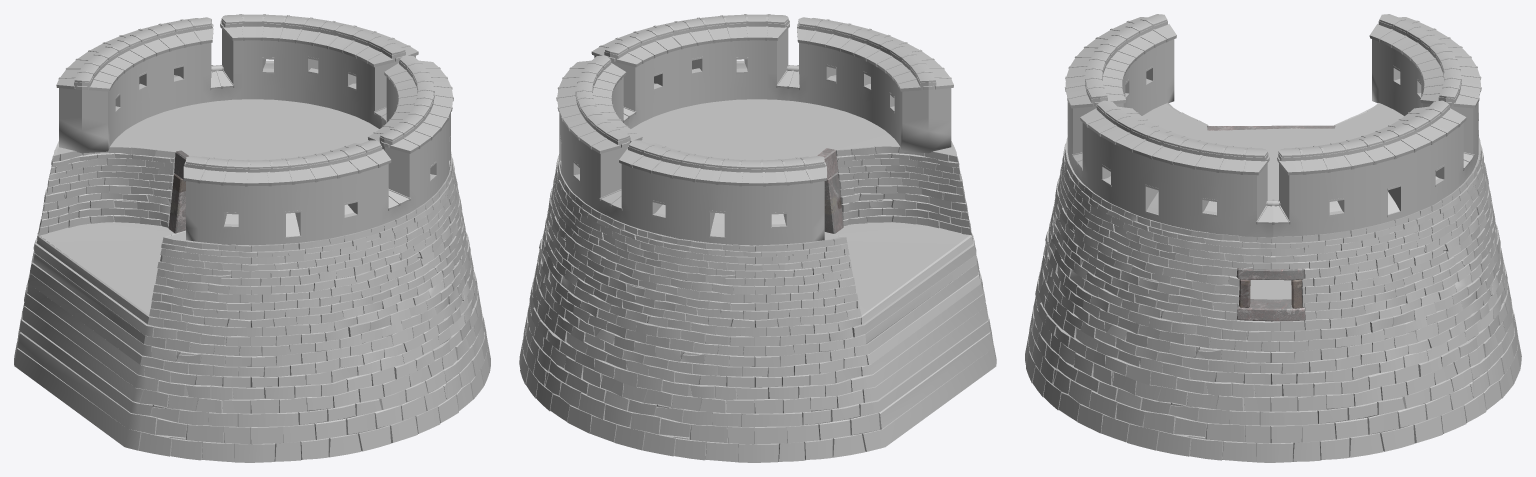
File: SM_Outer_Castle06a.fbx
The picture shows the model from 3 angles, left to right: view 1: azimuth 30°, elevation 25°; view 2: azimuth 150°, elevation 25°; view 3: azimuth 270°, elevation 25°; orthographic projection. The views are drawn at different scales.
Parts seen in each view (by area): view 1: SM_Outer_Castle06a; view 2: SM_Outer_Castle06a; view 3: SM_Outer_Castle06a.
Part boxes in pixels (x1=…): SM_Outer_Castle06a: x1=14, y1=14, x2=490, y2=462; SM_Outer_Castle06a: x1=519, y1=14, x2=996, y2=462; SM_Outer_Castle06a: x1=1025, y1=14, x2=1521, y2=462.
Bounding box in the file's own units: 814 × 863 × 544.
